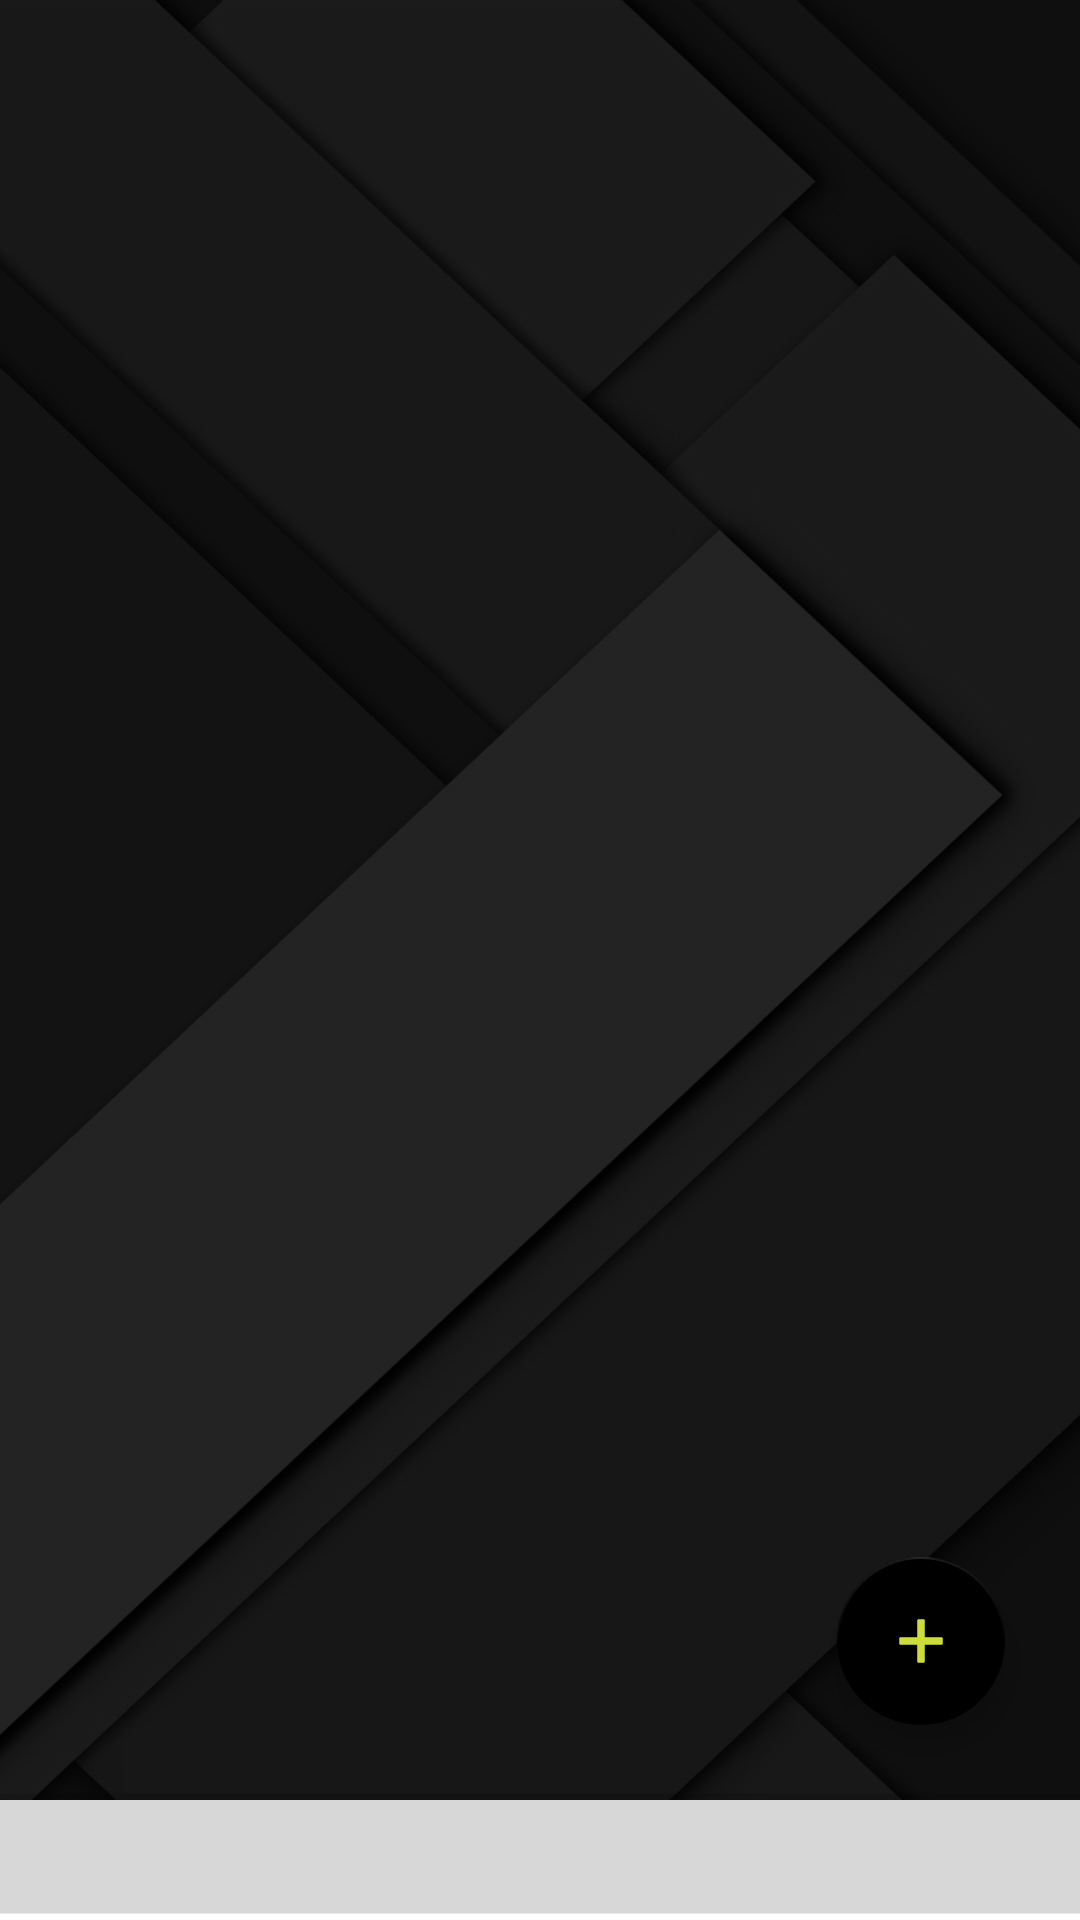

Screen size 1080px x 1920px. Icon name, then its center in pixels as [x,y]:
add: [921,1641]
